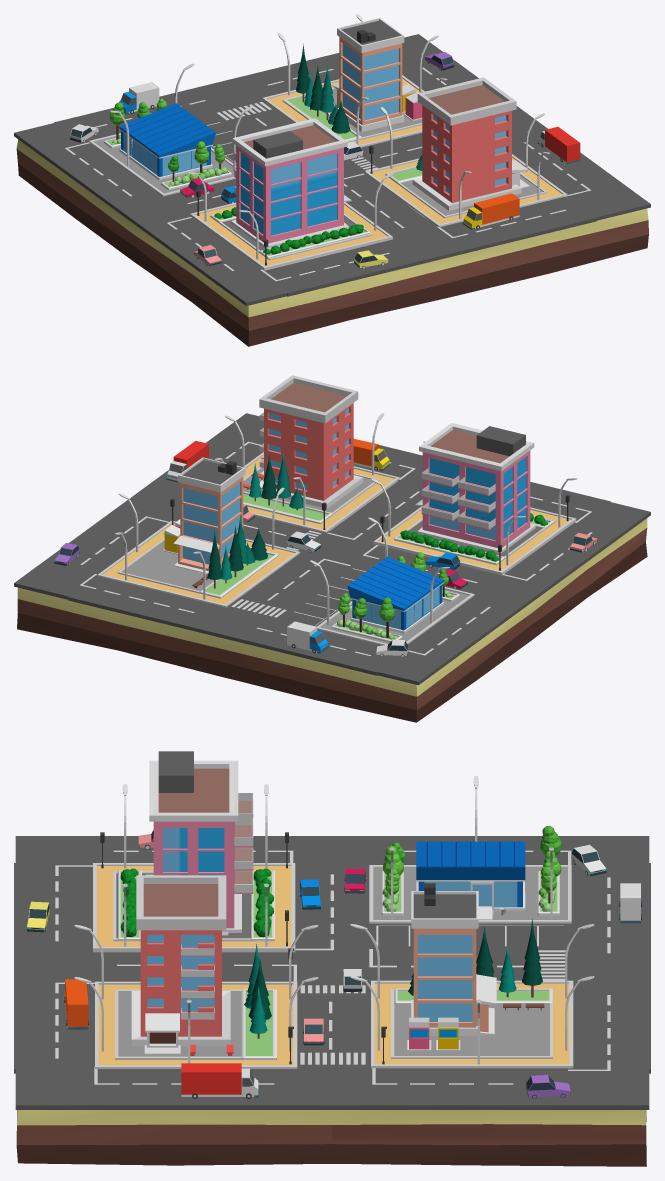
The model's file is city_mod.glb.
The picture shows the model from 3 angles, top to bottom: view 1: azimuth 30°, elevation 25°; view 2: azimuth 150°, elevation 25°; view 3: azimuth 270°, elevation 25°; orthographic projection. The views are drawn at different scales.
Parts seen in each view (by area): view 1: ROAD_TRANSFORM, Floor_6, House, House_2, House_3, Shop, Floor, Floor_2, ROAD_Lines_12, Floor_4_4, Car_08_3, Floor_3 (+8 smaller); view 2: ROAD_TRANSFORM, Floor_6, House, House_2, House_3, Shop, Floor_3, Floor, Floor_4_3, Floor_2, ROAD_Lines_12, Floor_4_4 (+10 smaller); view 3: ROAD_TRANSFORM, Floor_6, House_2, House, House_3, Shop, Floor_4_3, Floor_3, Floor, Floor_2, ROAD_Lines_12, Floor_4_4 (+18 smaller).
Boxes of the visible parts, x1,y1,x2,y2 form: ROAD_TRANSFORM: (14, 34, 650, 305); Floor_6: (16, 139, 648, 346); House: (231, 118, 351, 248); House_2: (412, 77, 529, 210); House_3: (332, 18, 404, 131); Shop: (119, 103, 215, 180); Floor: (190, 202, 392, 270); Floor_2: (365, 154, 567, 227); ROAD_Lines_12: (65, 67, 591, 281); Floor_4_4: (89, 133, 236, 196); Car_08_3: (462, 193, 519, 229); Floor_3: (262, 75, 424, 147); ROAD_TRANSFORM: (14, 413, 650, 685); Floor_6: (17, 489, 647, 722); House: (415, 423, 535, 553); House_2: (259, 375, 363, 508); House_3: (173, 457, 245, 573); Shop: (347, 556, 444, 633); Floor_3: (97, 520, 300, 607); Floor: (373, 506, 576, 575); Floor_4_3: (117, 538, 279, 598); Floor_2: (243, 452, 399, 533); ROAD_Lines_12: (80, 441, 592, 655); Floor_4_4: (317, 586, 474, 645); ROAD_TRANSFORM: (14, 836, 650, 1109); Floor_6: (16, 1110, 646, 1166); House_2: (131, 875, 230, 1054); House: (146, 751, 253, 935); House_3: (411, 883, 496, 1036); Shop: (416, 841, 525, 919); Floor_4_3: (391, 989, 552, 1058); Floor_3: (371, 980, 573, 1068); Floor: (93, 863, 295, 952); Floor_2: (95, 981, 297, 1068); ROAD_Lines_12: (55, 850, 610, 1084); Floor_4_4: (369, 865, 571, 923).
Bounding box in the file's own units: 21.92 × 7.44 × 21.92.
Materials: 4 (4 with a texture image).
